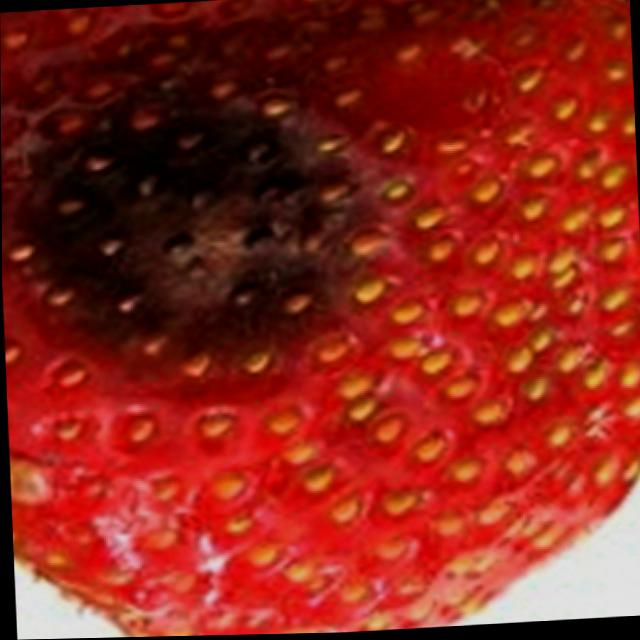Anthracnose Fruit Rot: (1, 40, 395, 409)
